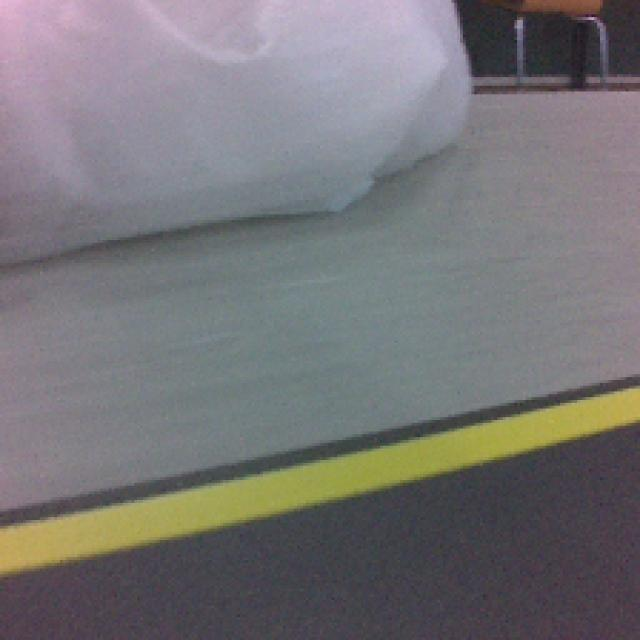Guard rail: (0, 391, 640, 569)
